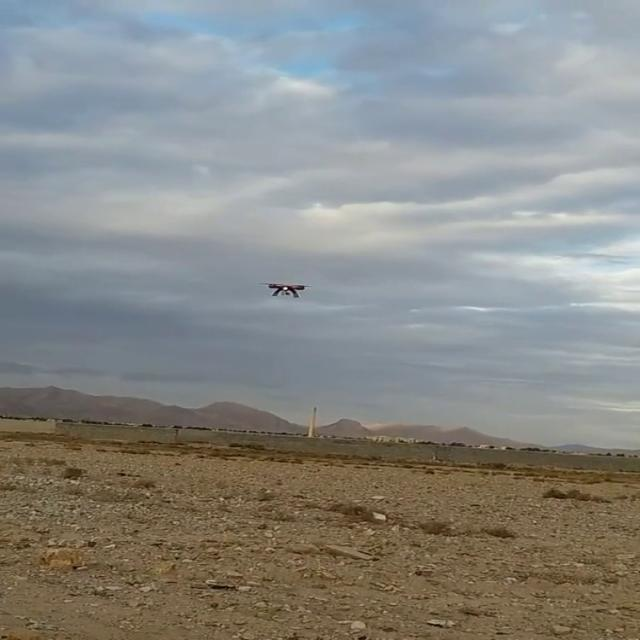drone: (256, 278, 314, 302)
